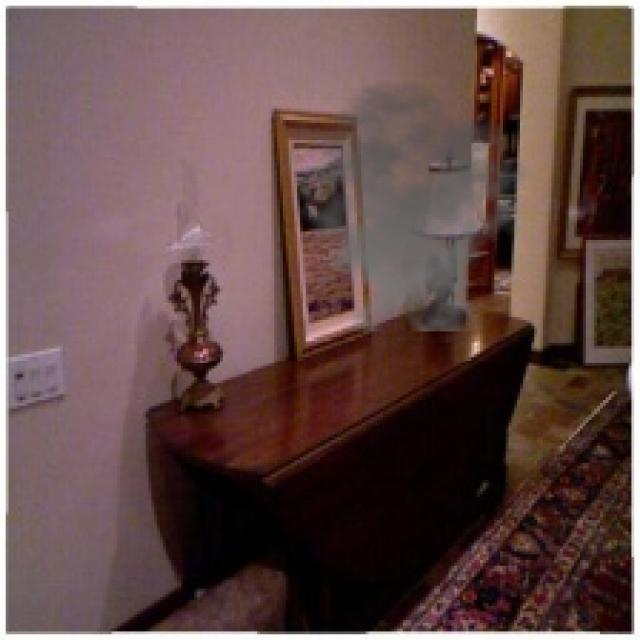smoke: (283, 80, 531, 331)
